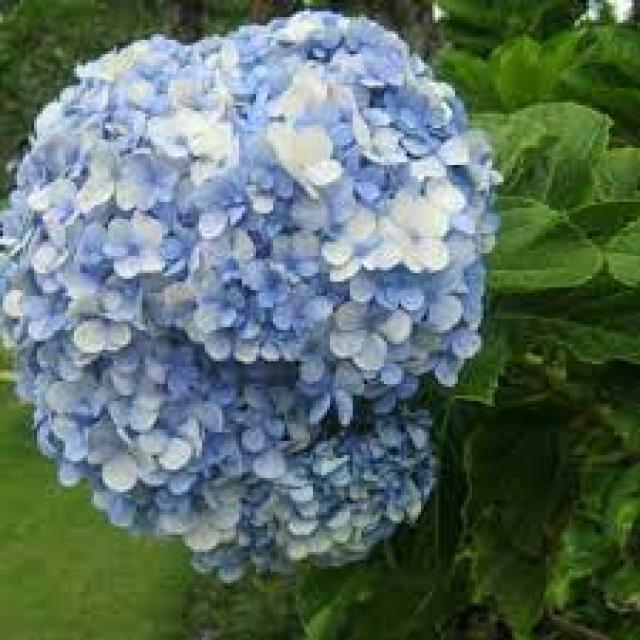Flower: (3, 9, 540, 592)
